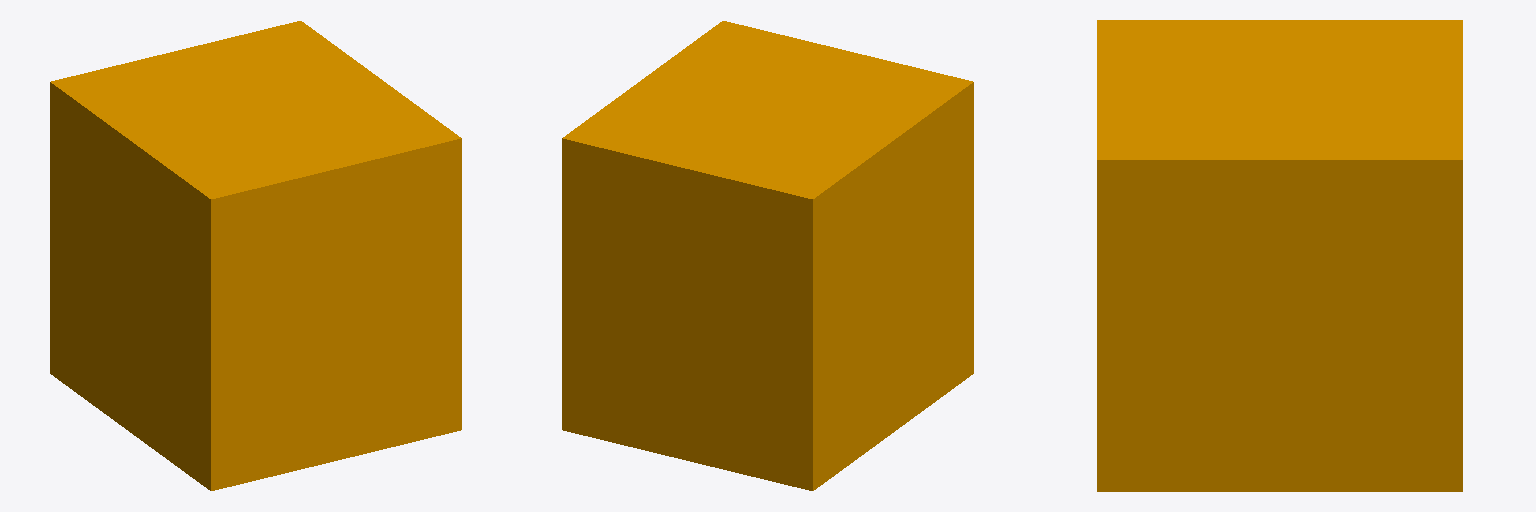
URDF robot description (object):
<robot name="object">
  <link name="object">
    <visual>
      <origin xyz="0 0 0" />
      <geometry>
        <box size="0.07200000000000001 0.08000000000000002 0.08" />
      </geometry>
    </visual>

    <collision>
      <origin xyz="0 0 0" />
      <geometry>
        <box size="0.07200000000000001 0.08000000000000002 0.08" />
      </geometry>
    </collision>

    <inertial>
      <mass value="0.05" />
      <inertia ixx="0.0001" ixy="0.0" ixz="0.0" iyy="0.0001" iyz="0.0" izz="0.0001" />
    </inertial>
  </link>
</robot>

--- Render facts (derived) ---
Views: 3 orthographic renders of the robot side by side, from view 1: azimuth 30°, elevation 25°; view 2: azimuth 150°, elevation 25°; view 3: azimuth 270°, elevation 25°.
Model object with 1 links and 0 joints (none), rooted at object, posed every joint at zero.
Links seen in each view (by area): view 1: object; view 2: object; view 3: object.
Link boxes in pixels (left/top/right/bottom): object: left=50, top=21, right=461, bottom=490; object: left=562, top=21, right=973, bottom=490; object: left=1097, top=20, right=1462, bottom=491.
Size in the robot's own frame: 0.072 by 0.08 by 0.08 metres.
Geometry: primitives only (box / cylinder / sphere), no mesh files.